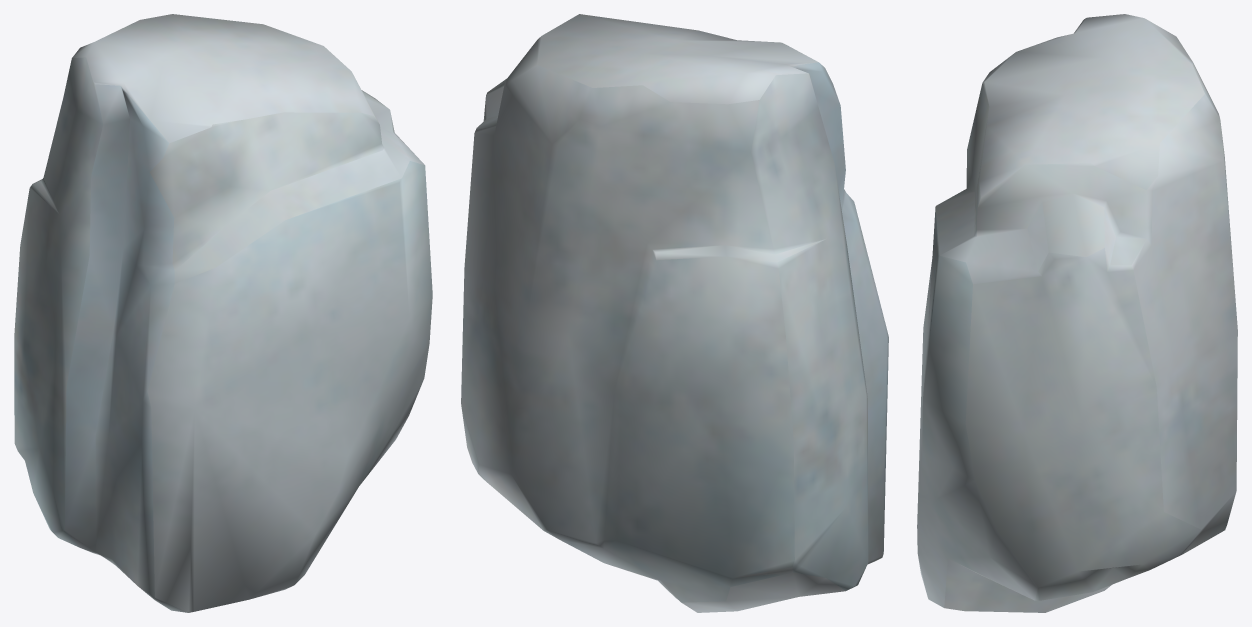
Rendered from P_RockSpire_Rock18.obj.
3 renders of one model, left to right at view 1: azimuth 30°, elevation 25°; view 2: azimuth 150°, elevation 25°; view 3: azimuth 270°, elevation 25°, orthographic. The views are drawn at different scales.
Size of the model in its own units: 11.21 by 15.72 by 8.61.
